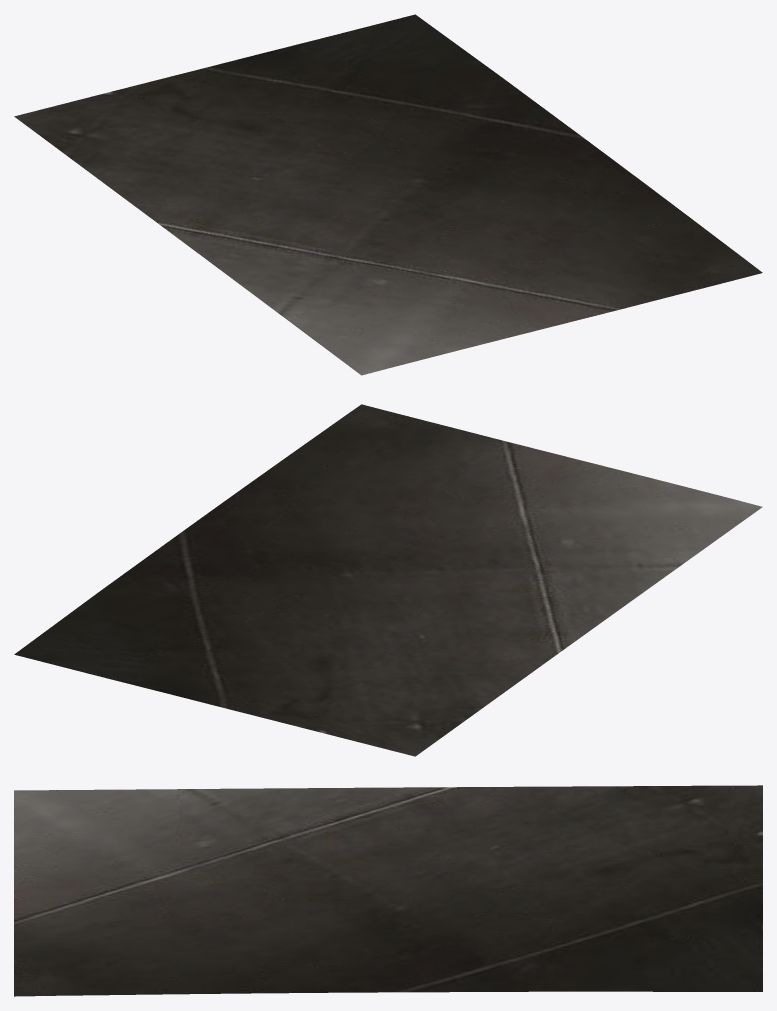
3 renders of one model, top to bottom at view 1: azimuth 30°, elevation 25°; view 2: azimuth 150°, elevation 25°; view 3: azimuth 270°, elevation 25°, orthographic. The views are drawn at different scales.
Size of the model in its own units: 2.07 by 0.0452 by 3.1.
Materials: 1 (1 with a texture image).
